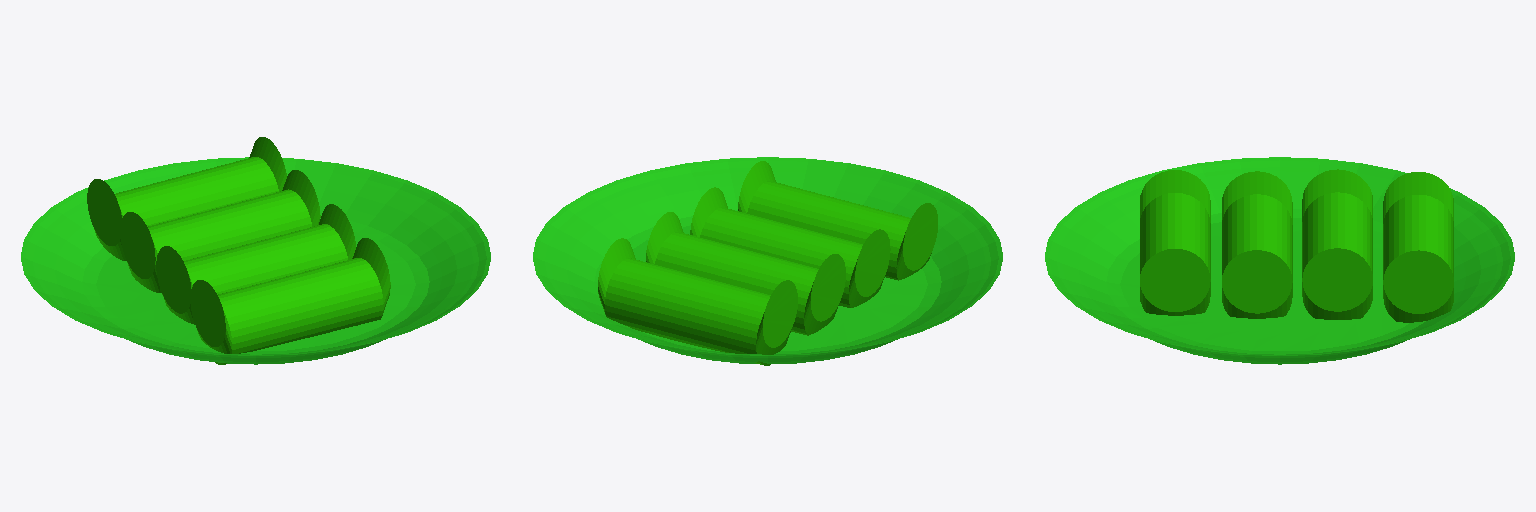
The model's file is lemper.obj.
3 renders of one model, left to right at view 1: azimuth 30°, elevation 25°; view 2: azimuth 150°, elevation 25°; view 3: azimuth 270°, elevation 25°, orthographic.
Parts seen in each view (by area): view 1: Cylinder, Cylinder.002_Cylinder.005, Cylinder.003, Cylinder.001_Cylinder.004, Cylinder.004_Cylinder.006; view 2: Cylinder, Cylinder.004_Cylinder.006, Cylinder.003, Cylinder.002_Cylinder.005, Cylinder.001_Cylinder.004; view 3: Cylinder, Cylinder.003, Cylinder.004_Cylinder.006, Cylinder.001_Cylinder.004, Cylinder.002_Cylinder.005.
Boxes of the visible parts, <box> form: Cylinder: <box>21,157,490,364</box>; Cylinder.002_Cylinder.005: <box>190,238,390,364</box>; Cylinder.003: <box>120,170,320,292</box>; Cylinder.001_Cylinder.004: <box>156,204,355,324</box>; Cylinder.004_Cylinder.006: <box>87,137,286,260</box>; Cylinder: <box>533,157,1002,363</box>; Cylinder.004_Cylinder.006: <box>598,238,797,365</box>; Cylinder.003: <box>646,212,845,335</box>; Cylinder.002_Cylinder.005: <box>738,161,937,280</box>; Cylinder.001_Cylinder.004: <box>690,187,890,307</box>; Cylinder: <box>1045,157,1514,364</box>; Cylinder.003: <box>1302,169,1372,319</box>; Cylinder.004_Cylinder.006: <box>1383,172,1453,322</box>; Cylinder.001_Cylinder.004: <box>1222,171,1292,318</box>; Cylinder.002_Cylinder.005: <box>1140,170,1210,315</box>.
Size of the model in its own units: 2.31 by 0.496 by 2.31.